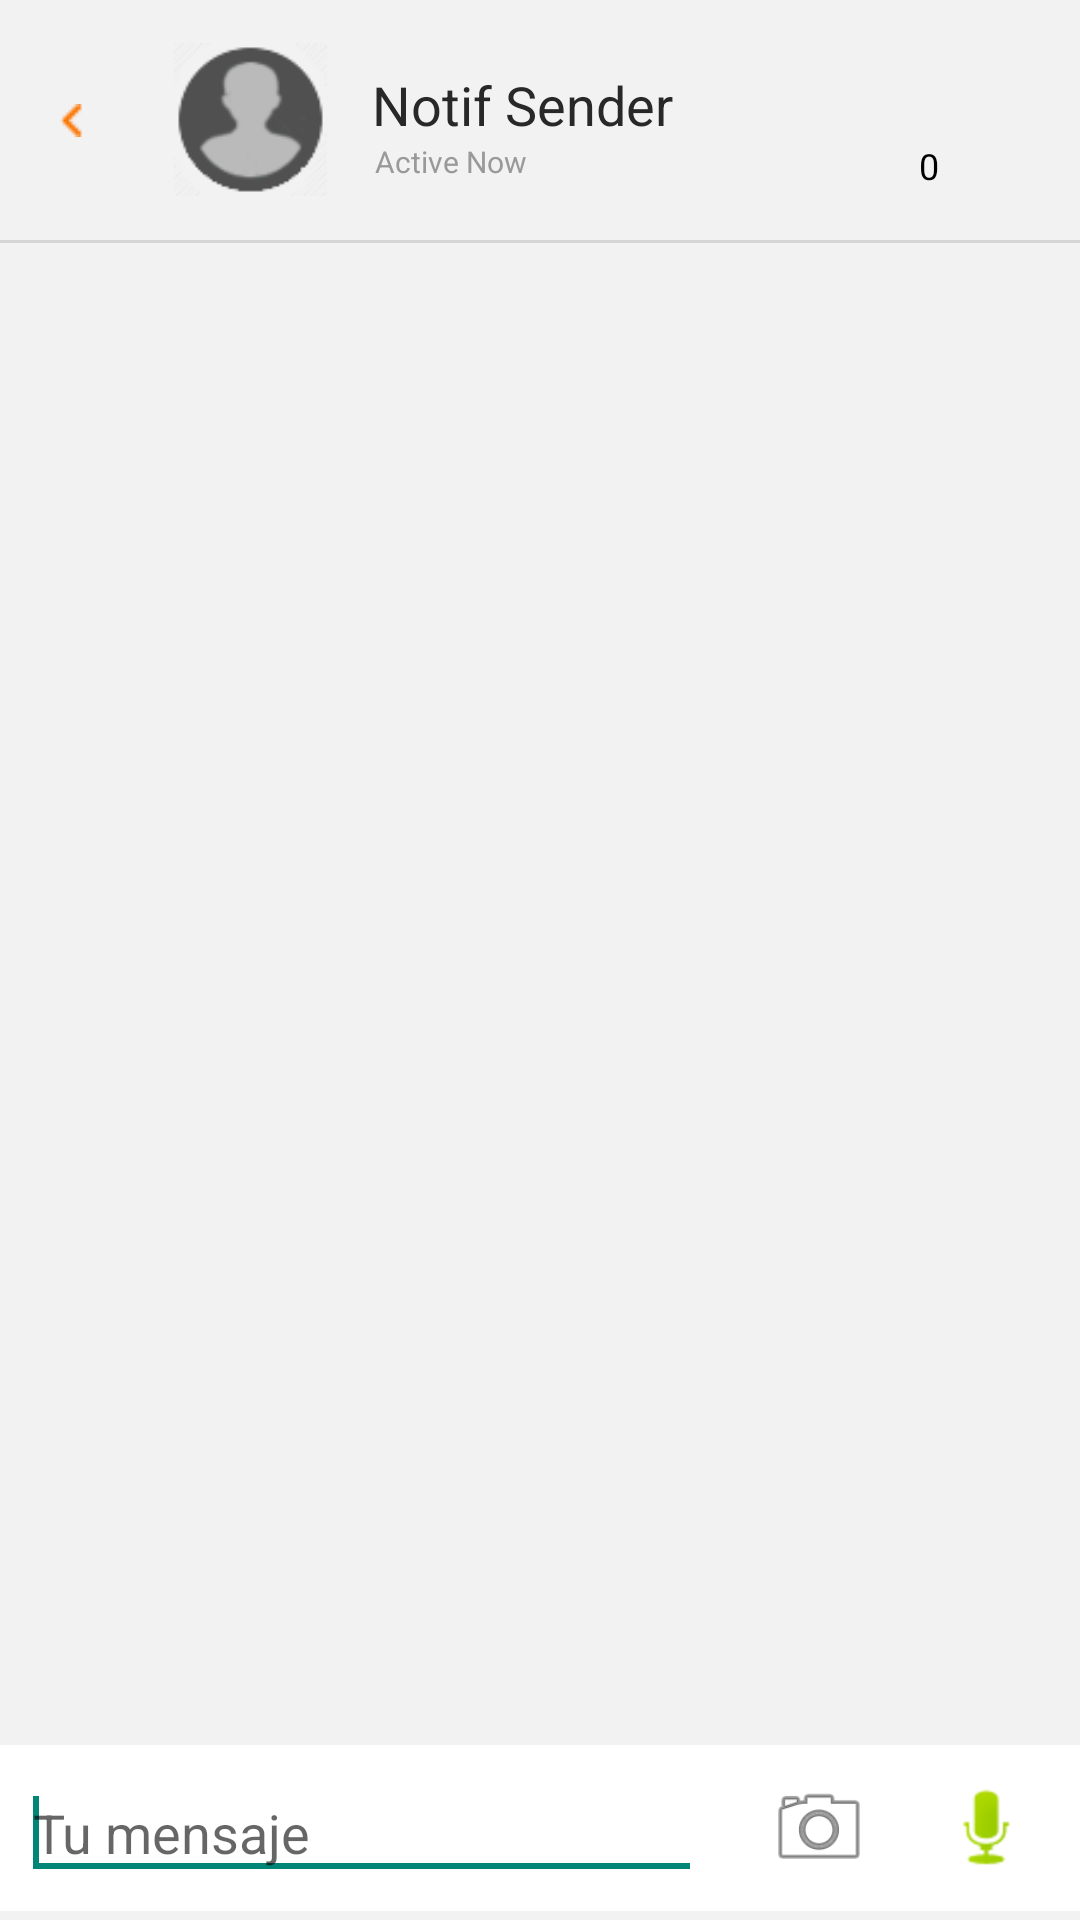

Named icons in this screenshot (1080px x 1920px) and their bounding boxes, rect(x1, y1, x2, y2):
arrow left: rect(60, 104, 82, 137)
camera: rect(778, 1794, 860, 1859)
